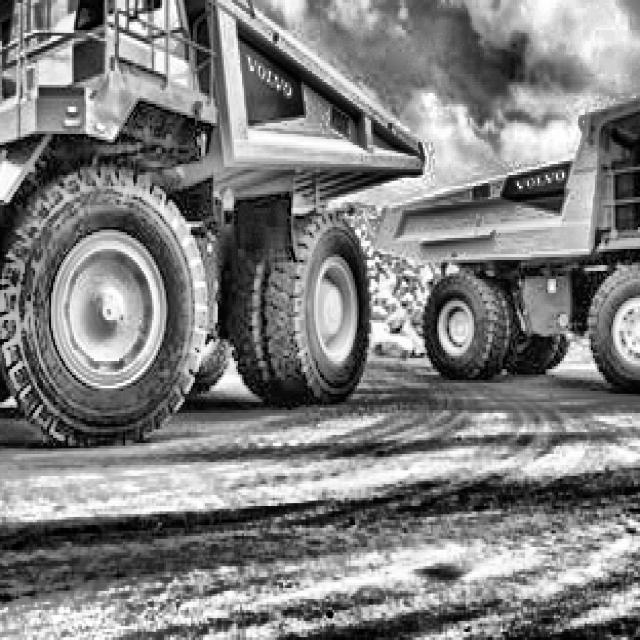dump_truck: (0, 0, 425, 438), (431, 68, 640, 413)
